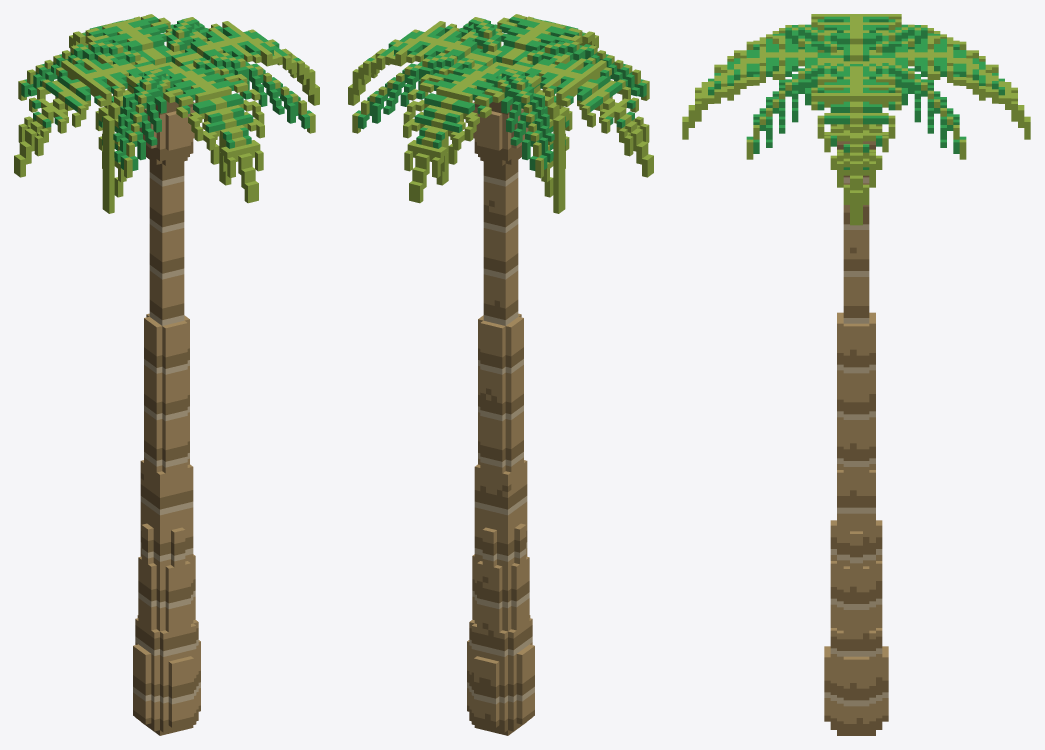
File: PalmA.fbx
The picture shows the model from 3 angles, left to right: view 1: azimuth 30°, elevation 25°; view 2: azimuth 150°, elevation 25°; view 3: azimuth 270°, elevation 25°; orthographic projection.
Parts seen in each view (by area): view 1: PalmA; view 2: PalmA; view 3: PalmA.
Boxes of the visible parts, box(x1,y1,x2,y2) form: PalmA: box(14, 14, 319, 735); PalmA: box(348, 14, 653, 735); PalmA: box(682, 14, 1030, 735).
Size of the model in its own units: 540 by 1160 by 540.
